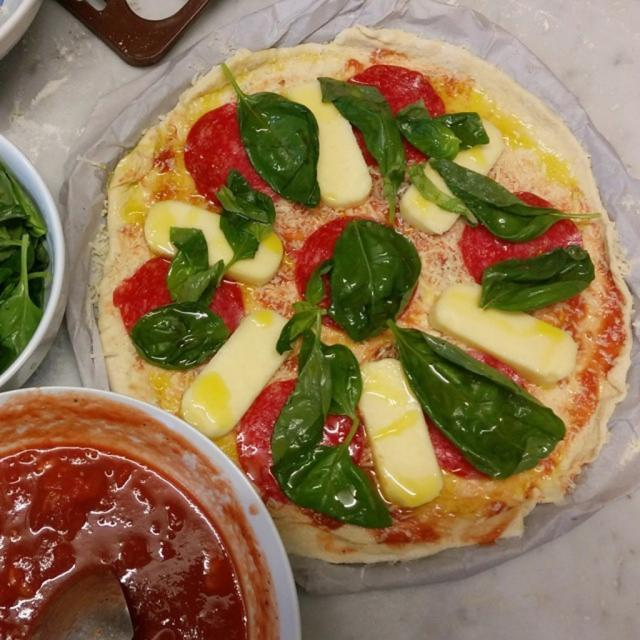Pizza: (85, 35, 638, 565)
